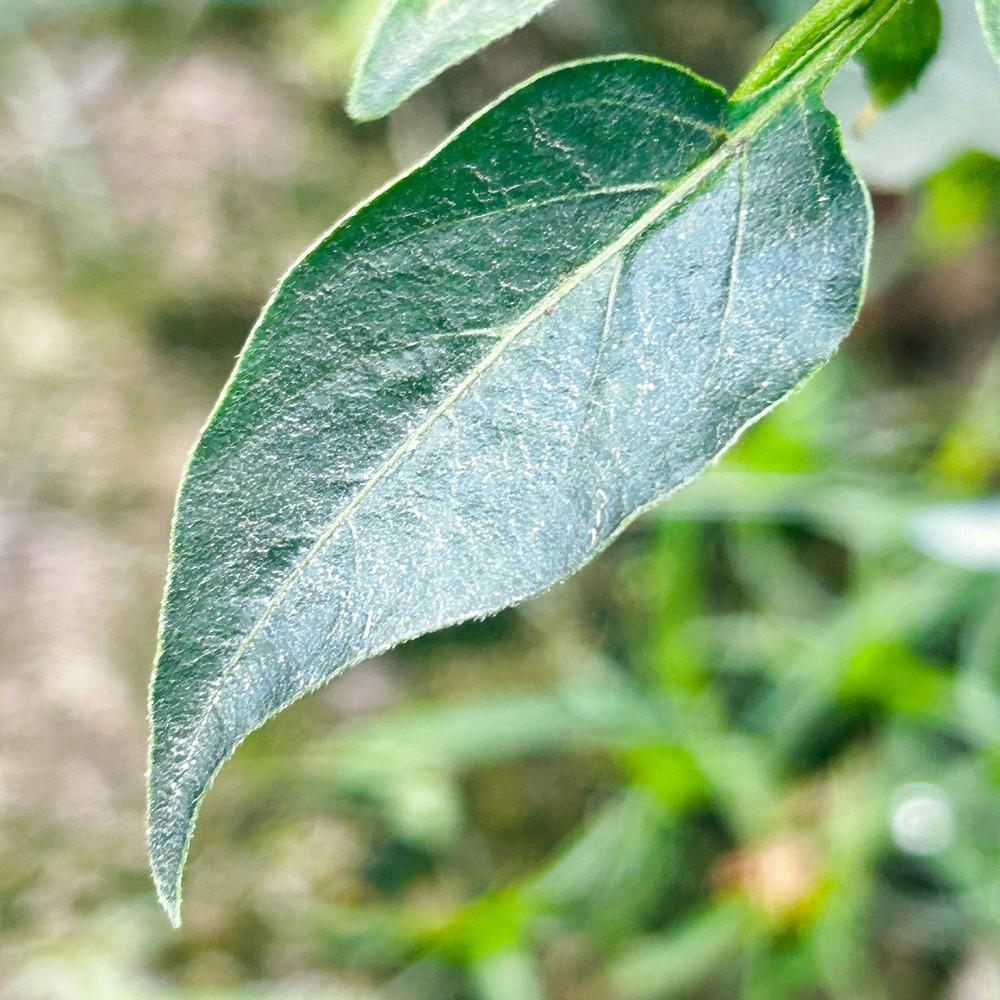Daun Cabai Sehat: (142, 1, 918, 928)
